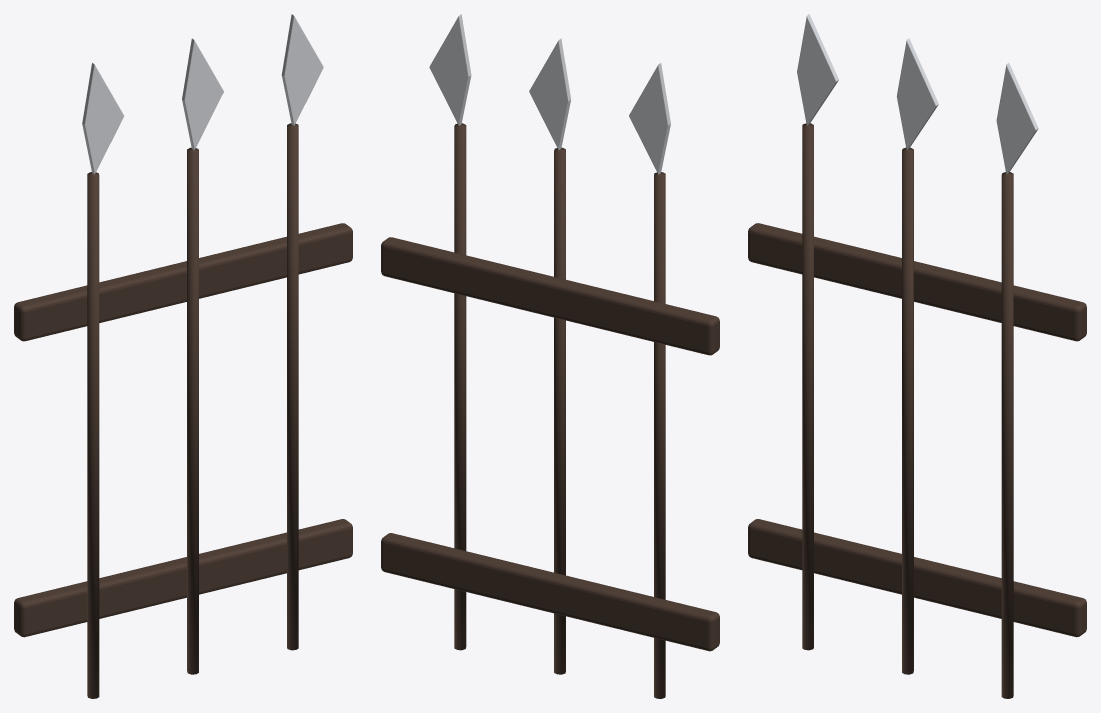
Rendered from wall_gear_halberd_rack.glb.
3 views of the same model, side by side, from view 1: azimuth 30°, elevation 25°; view 2: azimuth 150°, elevation 25°; view 3: azimuth 330°, elevation 25° (orthographic).
Parts seen in each view (by area): view 1: GD_wall_gear_halberd_rack__m0, GD_wall_gear_halberd_rack__m1; view 2: GD_wall_gear_halberd_rack__m0, GD_wall_gear_halberd_rack__m1; view 3: GD_wall_gear_halberd_rack__m0, GD_wall_gear_halberd_rack__m1.
Boxes of the visible parts, left/top/right/bottom form: GD_wall_gear_halberd_rack__m0: left=14, top=123, right=352, bottom=698; GD_wall_gear_halberd_rack__m1: left=82, top=14, right=323, bottom=174; GD_wall_gear_halberd_rack__m0: left=381, top=123, right=719, bottom=698; GD_wall_gear_halberd_rack__m1: left=429, top=14, right=670, bottom=174; GD_wall_gear_halberd_rack__m0: left=748, top=123, right=1086, bottom=698; GD_wall_gear_halberd_rack__m1: left=797, top=14, right=1038, bottom=174.
Bounding box in the file's own units: 1 × 1.82 × 0.091.
